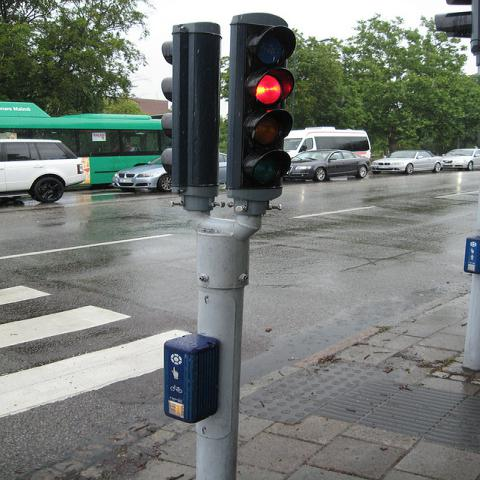bus: (2, 100, 168, 206)
car: (0, 136, 89, 206), (284, 149, 371, 181), (108, 161, 172, 190), (372, 150, 446, 175), (444, 148, 480, 168)
truck: (283, 131, 370, 160)
